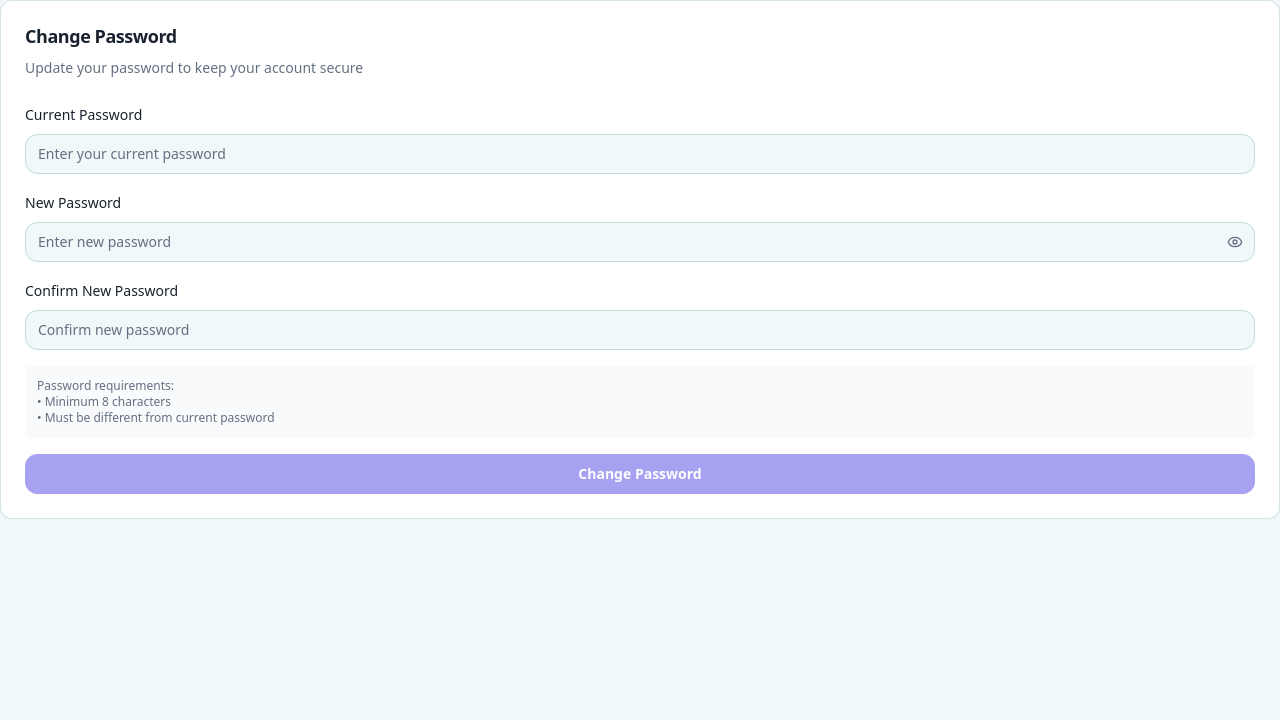
Test case: PasswordChangeForm › should show error when passwords don't match
The width and height of the screenshot is (1280, 720).
Type "oldpass123" into the password field labelled "Current Password".
click(640, 154); type("oldpass123")  # box left=25, top=134, right=1255, bottom=174
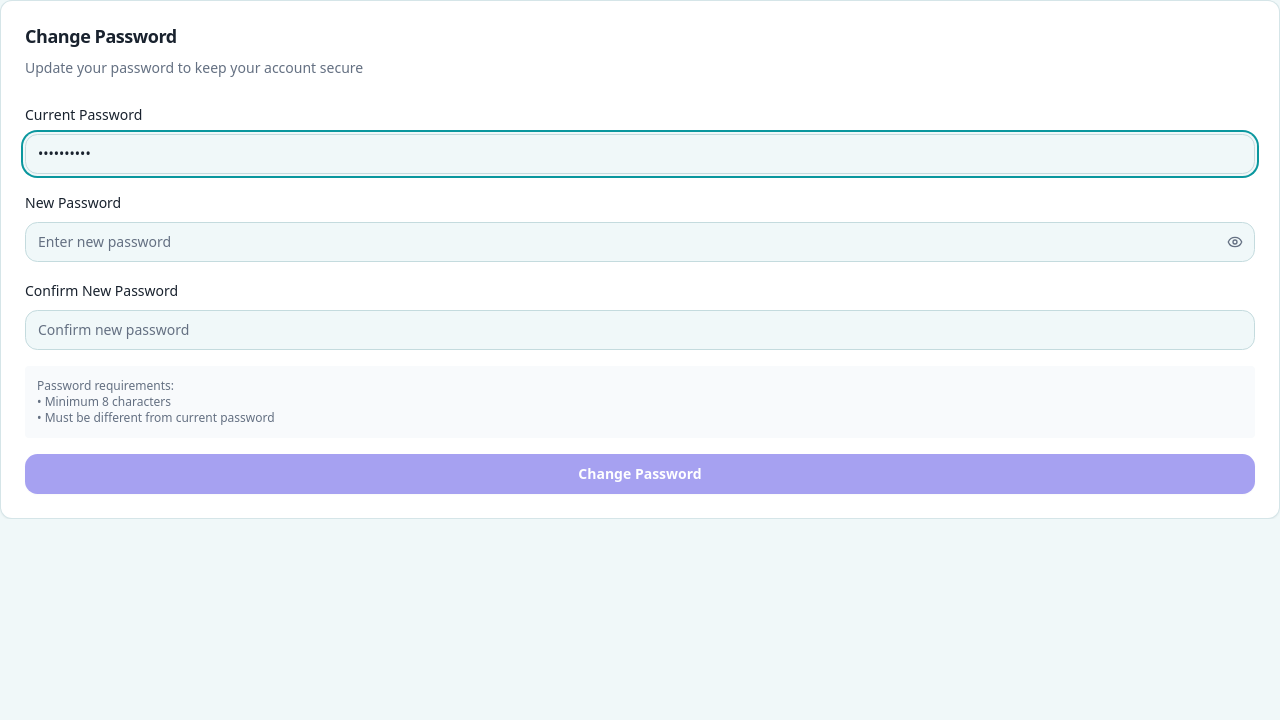
Type "newpass123" into the password field labelled "New Password".
click(640, 242); type("newpass123")  # box left=25, top=222, right=1255, bottom=262
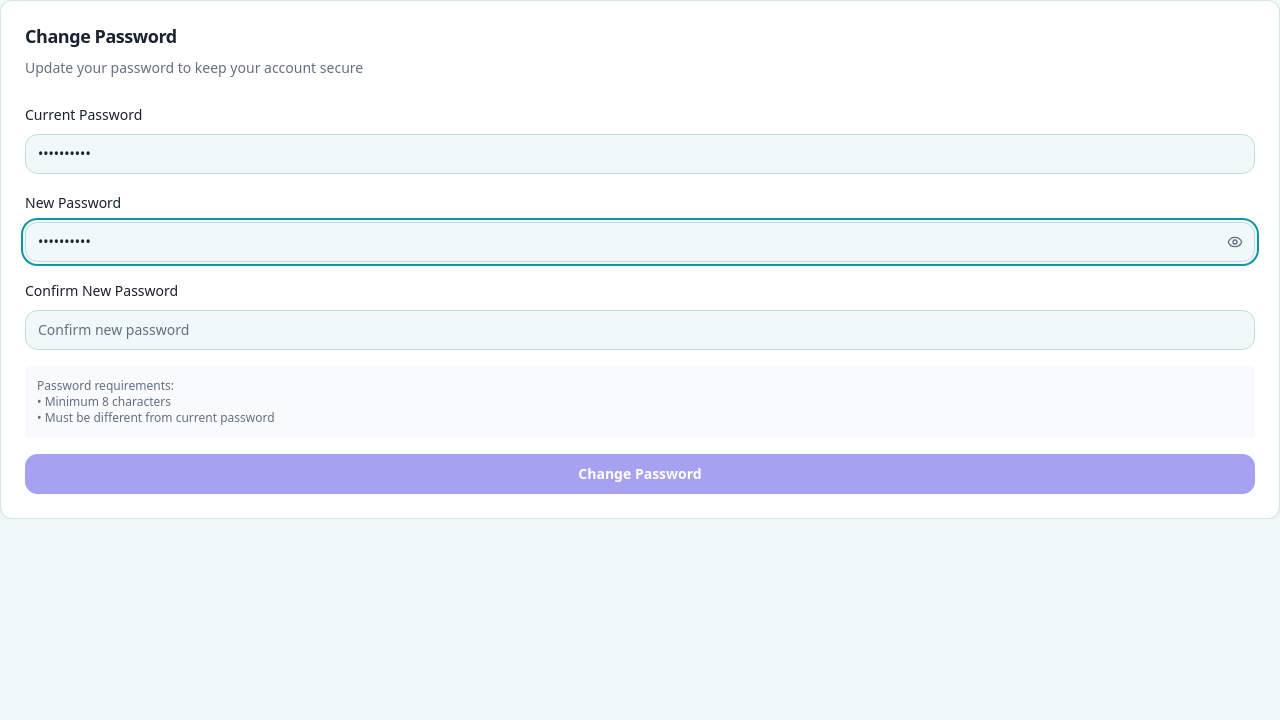
Type "differentpass123" into the password field labelled "Confirm New Password".
click(640, 330); type("differentpass123")  # box left=25, top=310, right=1255, bottom=350
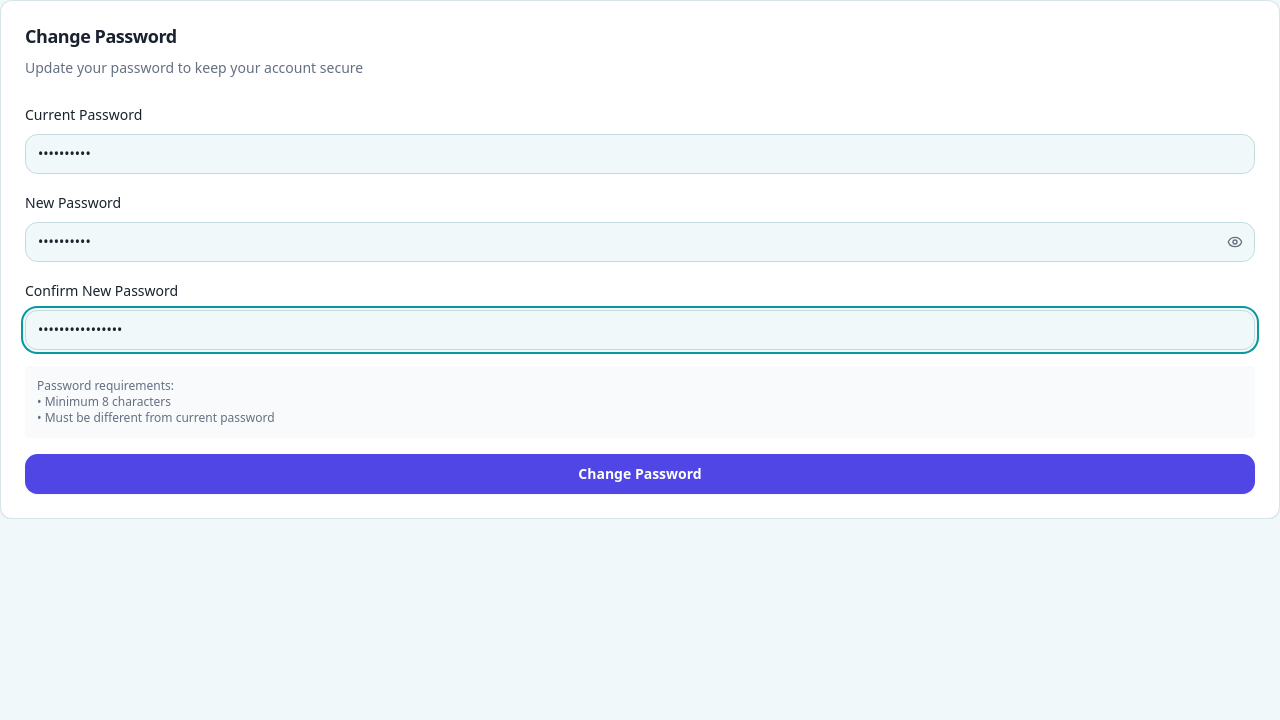
Click the button "Change Password".
click(640, 474)  # box left=25, top=454, right=1255, bottom=494
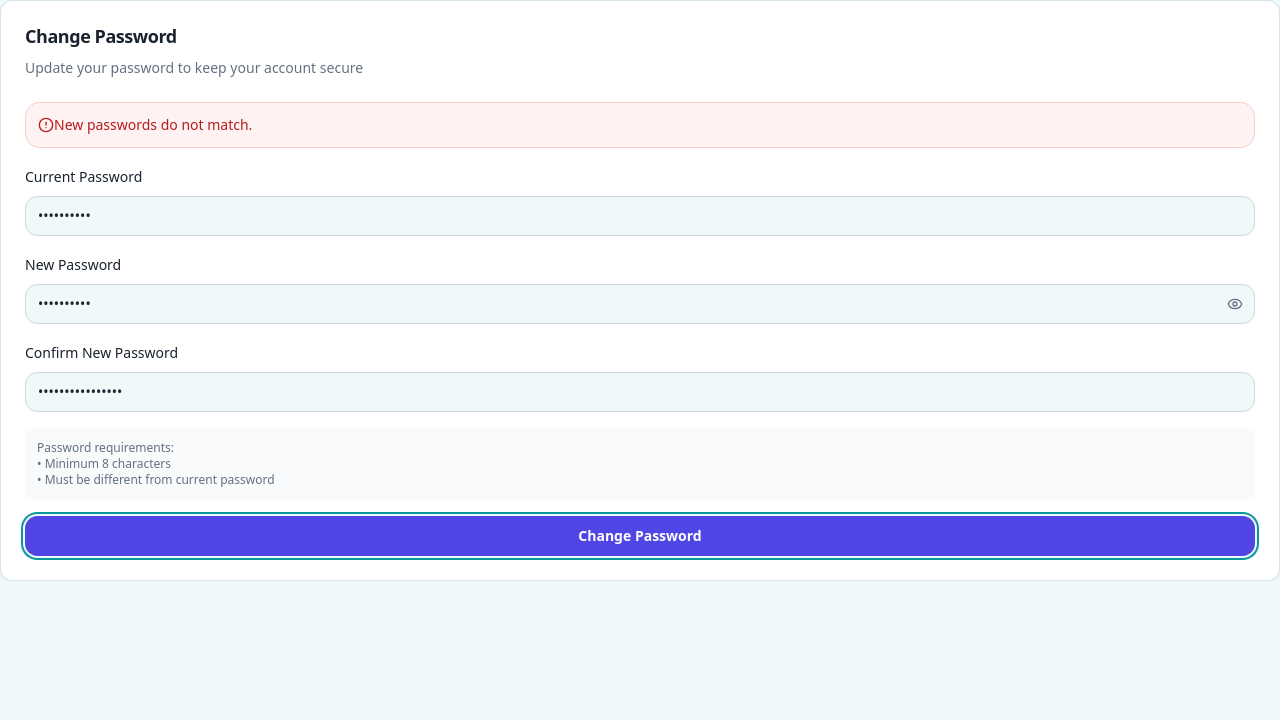
Now the text "New passwords do not match." is shown, box left=54, top=114, right=252, bottom=134
